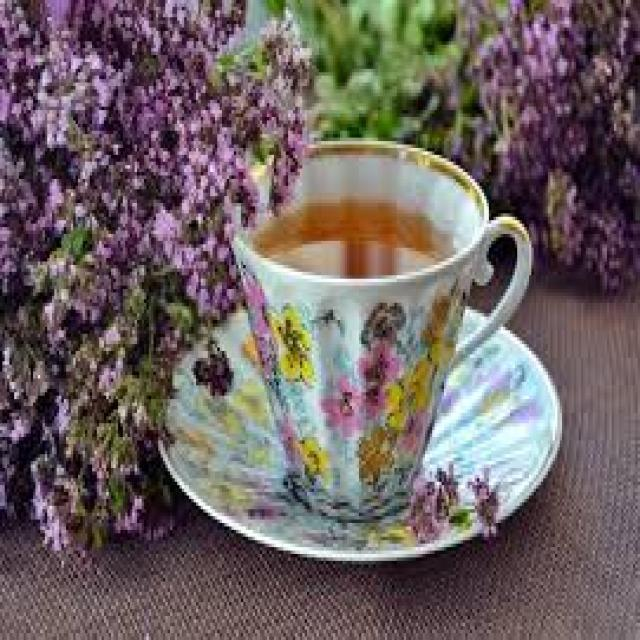taza: (212, 128, 542, 522)
